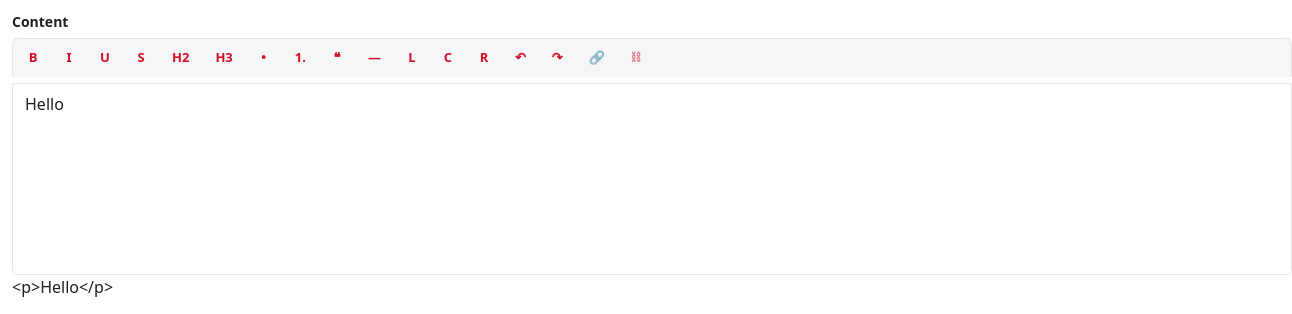
RichTextEditor › has a labelled toolbar whose buttons toggle formatting
What coordinates should you click on to do the following:
click the button named "Bold"
I would click on:
 (33, 58)
Its box is left=17, top=43, right=49, bottom=72.
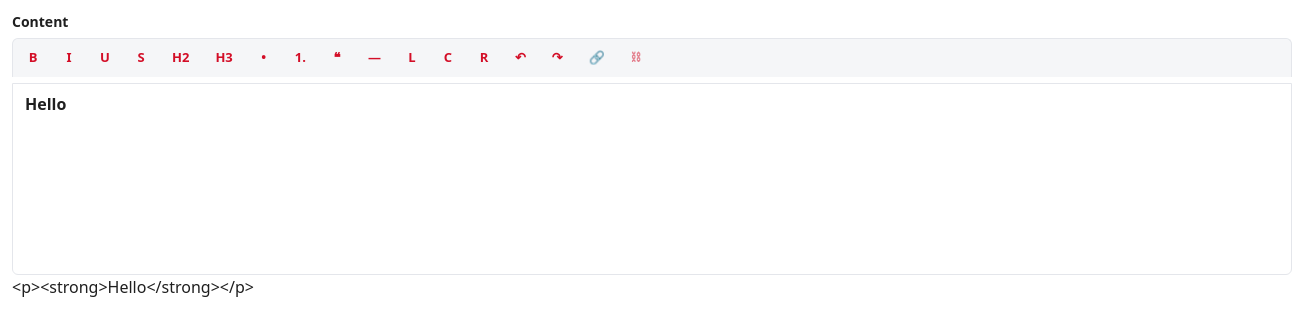
Expected: the text "<p><strong>Hello</strong></p>" is shown, left=12, top=276, right=254, bottom=298
What coordinates should you click on to do the following:
click the button named "Bullet list"
I would click on:
 (264, 58)
Its box is left=248, top=43, right=280, bottom=72.
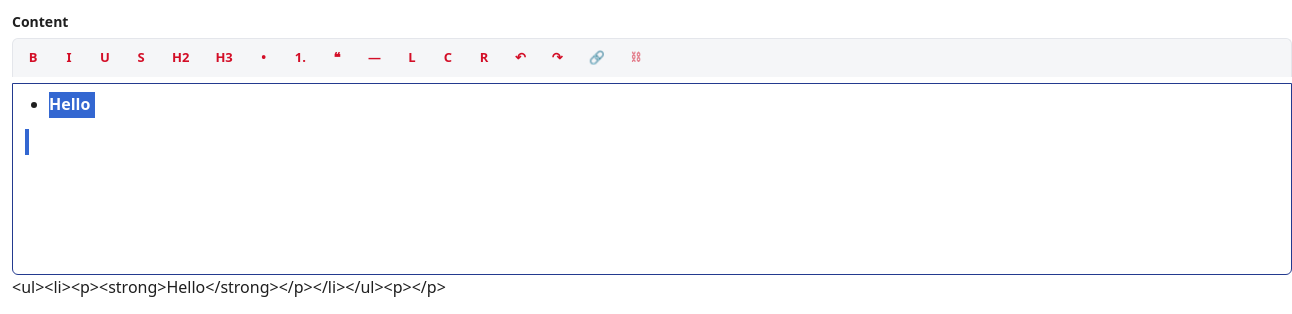
Expected: the text "<ul><li><p><strong>Hello</strong></p></li></ul>" is shown, left=12, top=276, right=446, bottom=298
